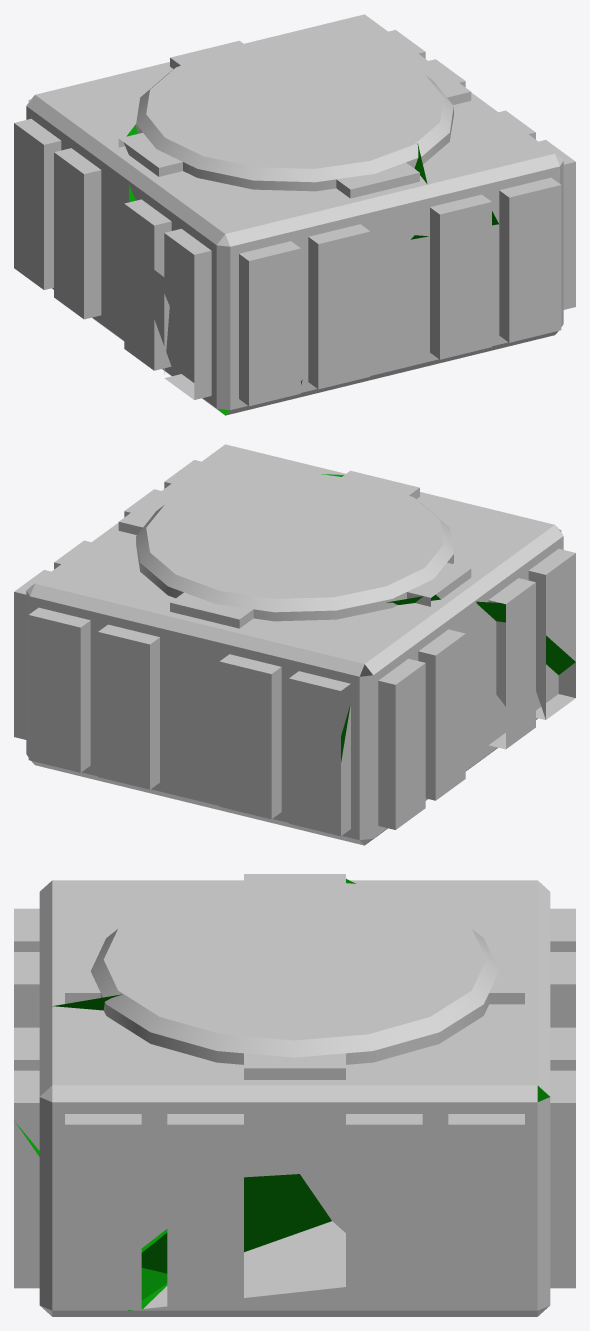
Rendered from EXP_Pack.fbx.
3 views of the same model, one above another, from view 1: azimuth 30°, elevation 25°; view 2: azimuth 150°, elevation 25°; view 3: azimuth 270°, elevation 25° (orthographic). The views are drawn at different scales.
Visible parts, largest first — view 1: polySurface15, polySurface1, polySurface46, polySurface2, polySurface7, polySurface12, polySurface21, polySurface31, polySurface23, polySurface40, polySurface41, polySurface50 (+15 smaller); view 2: polySurface15, polySurface62, polySurface46, polySurface59, polySurface31, polySurface68, polySurface40, polySurface74, polySurface7, polySurface34, polySurface41, polySurface50 (+24 smaller); view 3: polySurface15, polySurface7, polySurface31, polySurface2, polySurface27, polySurface1, polySurface38, polySurface3, polySurface6, polySurface62, polySurface59, polySurface35 (+19 smaller).
Part boxes in pixels (x1,y1,x2,y2): polySurface15: [123, 60, 427, 410]; polySurface1: [285, 198, 575, 400]; polySurface46: [26, 93, 244, 415]; polySurface2: [402, 122, 575, 238]; polySurface7: [319, 58, 551, 151]; polySurface12: [217, 234, 300, 406]; polySurface21: [308, 231, 370, 371]; polySurface31: [282, 14, 429, 68]; polySurface23: [164, 233, 211, 376]; polySurface40: [27, 96, 229, 415]; polySurface41: [14, 123, 43, 289]; polySurface50: [54, 152, 83, 318]; polySurface15: [206, 473, 563, 604]; polySurface62: [69, 591, 358, 831]; polySurface46: [309, 597, 558, 845]; polySurface59: [162, 562, 341, 831]; polySurface31: [26, 525, 206, 774]; polySurface68: [219, 661, 271, 819]; polySurface40: [321, 601, 535, 845]; polySurface74: [98, 632, 149, 789]; polySurface7: [113, 446, 273, 545]; polySurface34: [28, 615, 90, 765]; polySurface41: [395, 663, 425, 829]; polySurface50: [435, 634, 465, 800]; polySurface15: [39, 874, 431, 1013]; polySurface7: [59, 994, 376, 1188]; polySurface31: [300, 984, 550, 1316]; polySurface2: [14, 994, 331, 1273]; polySurface27: [448, 1124, 524, 1309]; polySurface1: [14, 1120, 167, 1316]; polySurface38: [346, 1124, 422, 1309]; polySurface3: [128, 1174, 444, 1316]; polySurface6: [167, 1186, 243, 1309]; polySurface62: [451, 884, 550, 1098]; polySurface59: [420, 904, 499, 1020]; polySurface35: [550, 1103, 575, 1288].
Bounding box in the file's own units: 220 × 110 × 220.
